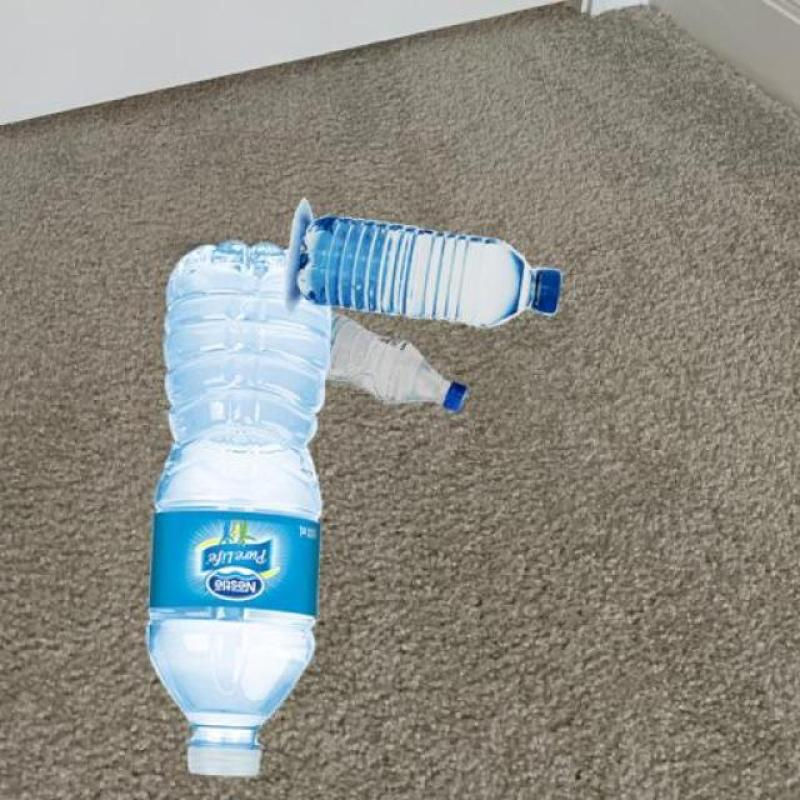botella: (144, 238, 330, 776), (299, 216, 562, 329), (326, 309, 470, 410)
